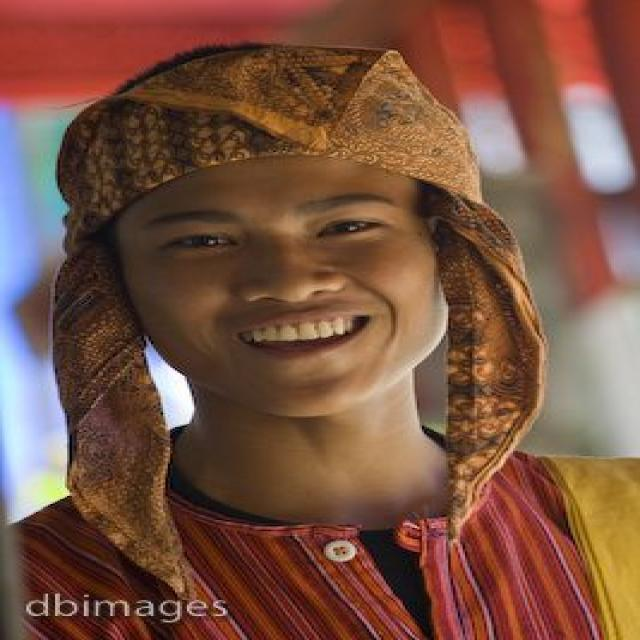sem_oculos: (39, 198, 505, 264)
